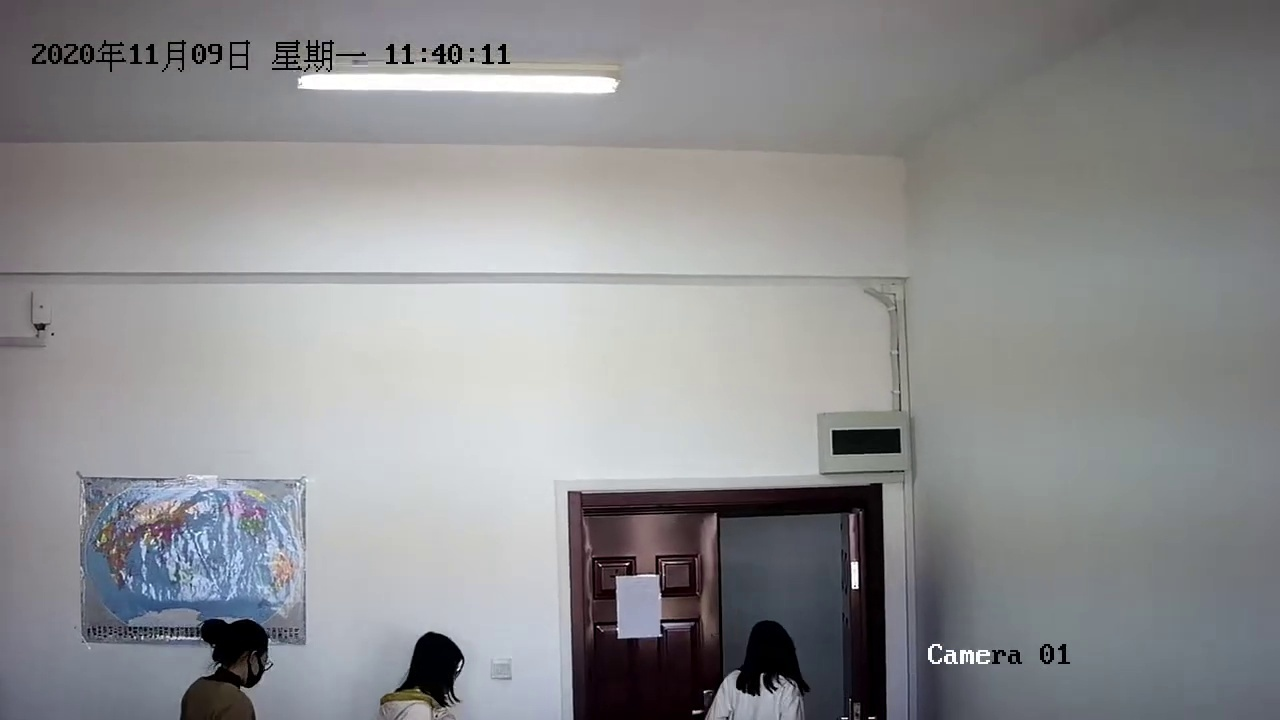mask: (206, 608, 270, 690)
